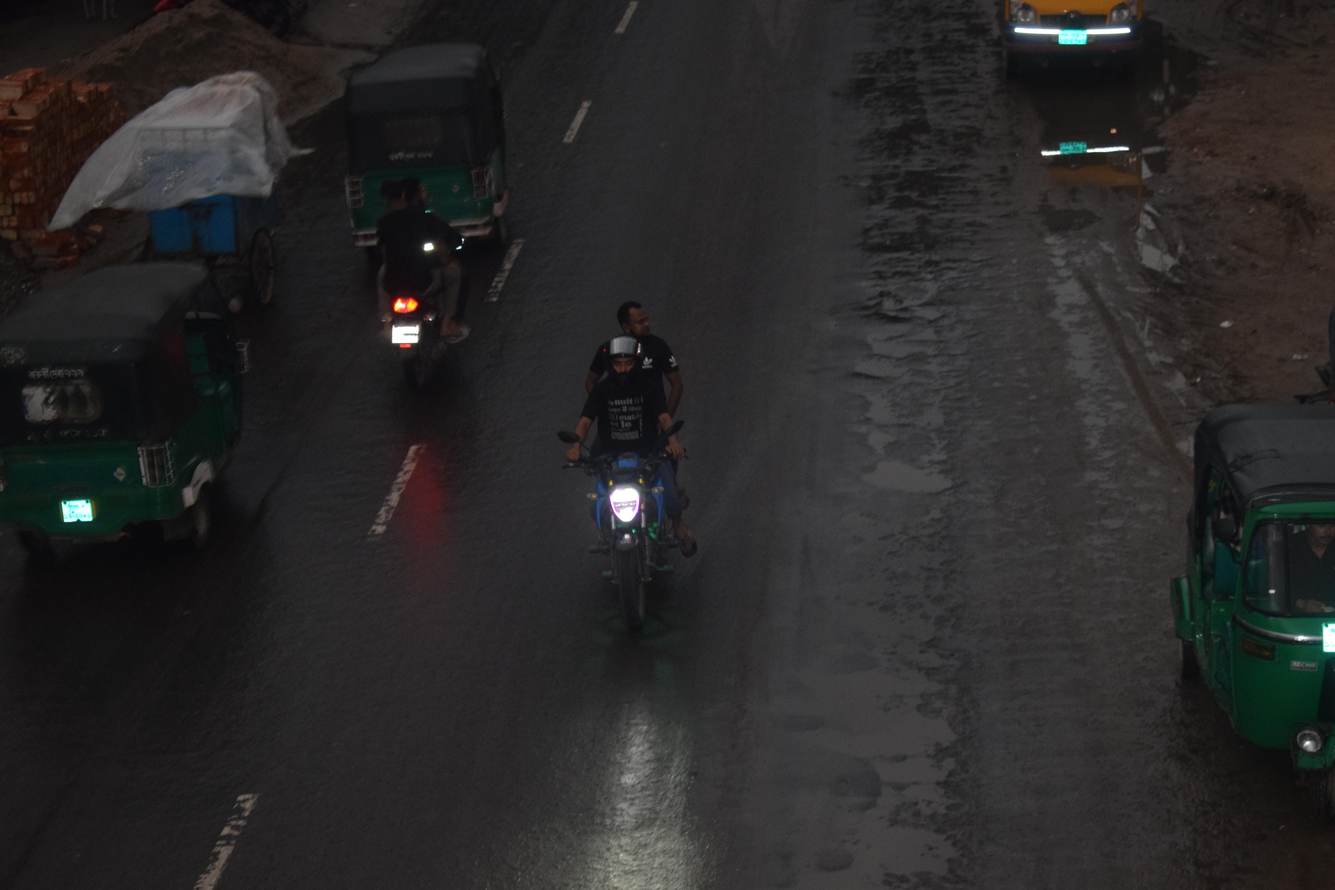Bike: (520, 277, 752, 659), (331, 154, 501, 414)
